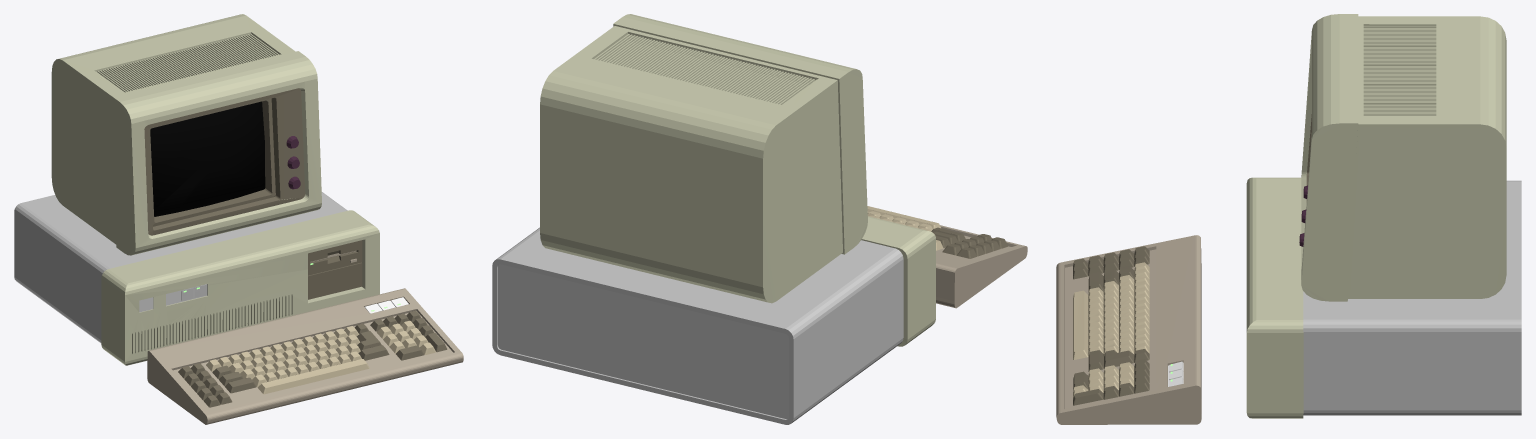
The model's file is ComputerNetwork.glb.
3 views of the same model, side by side, from view 1: azimuth 30°, elevation 25°; view 2: azimuth 150°, elevation 25°; view 3: azimuth 270°, elevation 25° (orthographic). The views are drawn at different scales.
Visible parts, largest first — view 1: monitor_white.001_0, kewboard_white_0, cpu_gray_0, Cube_screen_0, monitor_vintage 2_0, Plane.015_white_0, vent monitor_gray_0, Plane.017_white_0, flopy_vintage 1_0, cpu.001_gray metallic_0; view 2: monitor_white.001_0, cpu_gray_0, cpu.001_gray metallic_0, vent monitor_gray_0, kewboard_white_0, Plane.017_white_0, Plane.015_white_0; view 3: monitor_white.001_0, cpu_gray_0, kewboard_white_0, vent monitor_gray_0, Plane.015_white_0, Plane.017_white_0.
Boxes of the visible parts, left/top/right/bottom form: monitor_white.001_0: left=51, top=14, right=379, bottom=365; kewboard_white_0: left=147, top=288, right=463, bottom=424; cpu_gray_0: left=14, top=192, right=347, bottom=342; Cube_screen_0: left=150, top=101, right=265, bottom=216; monitor_vintage 2_0: left=144, top=88, right=305, bottom=235; Plane.015_white_0: left=206, top=320, right=435, bottom=394; vent monitor_gray_0: left=96, top=34, right=278, bottom=92; Plane.017_white_0: left=178, top=310, right=447, bottom=407; flopy_vintage 1_0: left=308, top=240, right=362, bottom=299; cpu.001_gray metallic_0: left=139, top=284, right=207, bottom=312; monitor_white.001_0: left=540, top=14, right=935, bottom=346; cpu_gray_0: left=492, top=227, right=903, bottom=424; cpu.001_gray metallic_0: left=498, top=264, right=788, bottom=419; vent monitor_gray_0: left=594, top=34, right=816, bottom=104; kewboard_white_0: left=936, top=225, right=1027, bottom=308; Plane.017_white_0: left=931, top=227, right=1008, bottom=258; Plane.015_white_0: left=867, top=206, right=943, bottom=250; monitor_white.001_0: left=1246, top=14, right=1506, bottom=418; cpu_gray_0: left=1303, top=180, right=1521, bottom=415; kewboard_white_0: left=1056, top=235, right=1201, bottom=424; vent monitor_gray_0: left=1363, top=26, right=1436, bottom=116; Plane.015_white_0: left=1073, top=262, right=1149, bottom=398; Plane.017_white_0: left=1073, top=246, right=1149, bottom=405.
Size of the model in its own units: 0.672 by 0.5709 by 0.8653.
